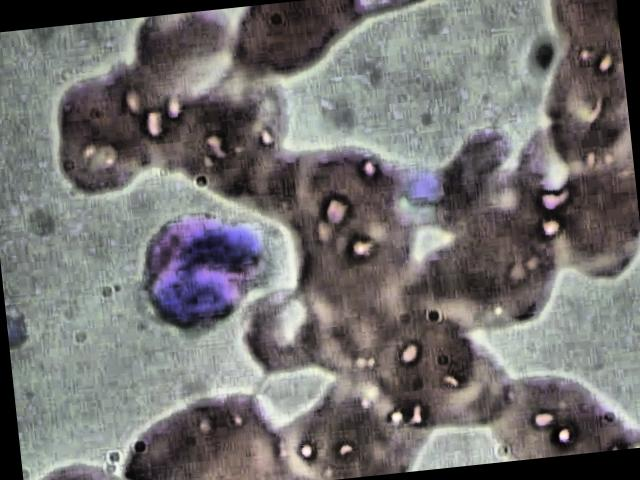Platelets: (394, 166, 448, 206), (7, 312, 40, 354)
RBC: (439, 198, 564, 336), (111, 382, 285, 480), (527, 48, 635, 184), (538, 154, 640, 289), (46, 61, 145, 199), (223, 0, 378, 85), (478, 358, 586, 464), (294, 140, 411, 235), (362, 302, 467, 407), (127, 9, 244, 103), (240, 280, 344, 385), (422, 326, 526, 431), (535, 0, 623, 76)
WBC: (112, 197, 286, 340)
